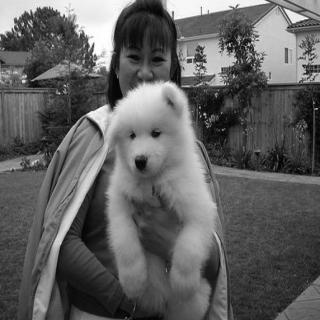dog: (103, 78, 192, 185)
nose: (132, 152, 150, 172)
